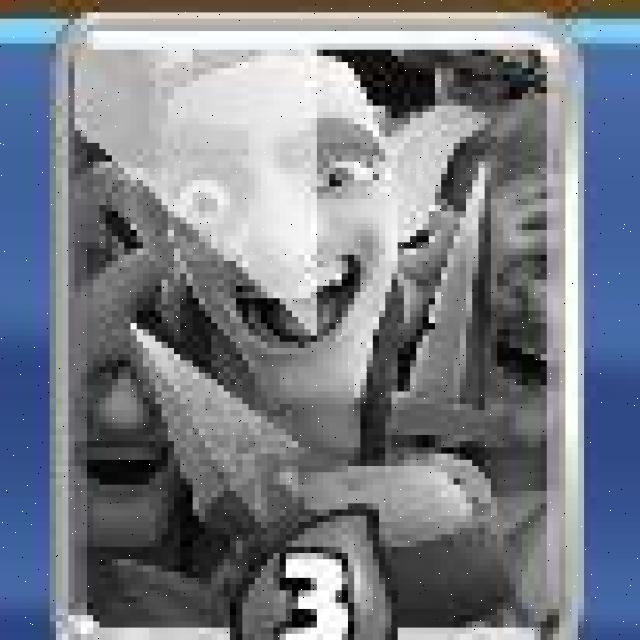Goblin_Gang: (59, 15, 584, 640)
